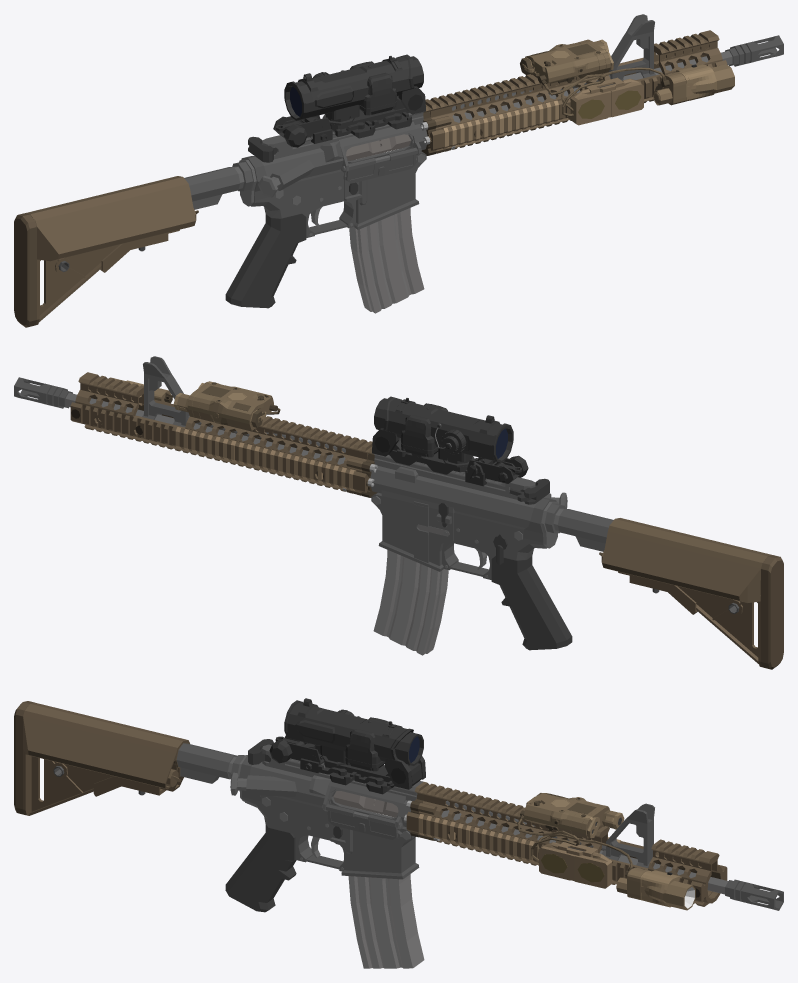
Rendered from low-poly_m4a1_sopmod_block_ii.glb.
3 views of the same model, one above another, from view 1: azimuth 30°, elevation 25°; view 2: azimuth 150°, elevation 25°; view 3: azimuth 330°, elevation 25° (orthographic).
Parts seen in each view (by area): view 1: LMT-SOPMOF_73, Upper+Lower-receiver_86, Upper-handguard_87, Magazine_75, Pistol-Grip_80, Cylinder.007_41, Cylinder.025_47, Barrel + Muzzle_5, Front-sight_71, Cube.010_15, Cube_11, Cube.006_13 (+5 smaller); view 2: Upper+Lower-receiver_86, LMT-SOPMOF_73, Upper-handguard_87, Magazine_75, Pistol-Grip_80, Cylinder.007_41, Cylinder.025_47, Cube.011_16, Barrel + Muzzle_5, Front-sight_71, Cube.022_27, Lower-handguard_74 (+3 smaller); view 3: Upper+Lower-receiver_86, LMT-SOPMOF_73, Upper-handguard_87, Magazine_75, Pistol-Grip_80, Cylinder.007_41, Cylinder.025_47, Barrel + Muzzle_5, Front-sight_71, Cube.010_15, Cube.006_13, Cube_11 (+8 smaller).
Part boxes in pixels (<box>): LMT-SOPMOF_73: <box>14,176,198,327</box>; Upper+Lower-receiver_86: <box>184,111,427,237</box>; Upper-handguard_87: <box>423,30,727,150</box>; Magazine_75: <box>349,148,424,313</box>; Pistol-Grip_80: <box>225,213,306,308</box>; Cylinder.007_41: <box>284,54,417,120</box>; Cylinder.025_47: <box>525,39,611,83</box>; Barrel + Muzzle_5: <box>452,35,783,122</box>; Front-sight_71: <box>608,14,655,80</box>; Cube.010_15: <box>441,100,558,148</box>; Cube_11: <box>664,64,716,105</box>; Cube.006_13: <box>568,78,643,125</box>; Upper+Lower-receiver_86: <box>370,453,613,579</box>; LMT-SOPMOF_73: <box>599,518,783,669</box>; Upper-handguard_87: <box>70,372,374,492</box>; Magazine_75: <box>373,524,448,655</box>; Pistol-Grip_80: <box>491,556,572,650</box>; Cylinder.007_41: <box>380,396,513,462</box>; Cylinder.025_47: <box>177,381,273,430</box>; Cube.011_16: <box>175,427,356,490</box>; Barrel + Muzzle_5: <box>14,377,345,464</box>; Front-sight_71: <box>142,356,197,427</box>; Cube.022_27: <box>401,403,447,456</box>; Lower-handguard_74: <box>84,424,361,495</box>; Upper+Lower-receiver_86: <box>176,743,423,879</box>; LMT-SOPMOF_73: <box>14,701,189,815</box>; Upper-handguard_87: <box>406,782,727,903</box>; Magazine_75: <box>348,808,424,968</box>; Pistol-Grip_80: <box>225,824,296,912</box>; Cylinder.007_41: <box>284,700,413,765</box>; Cylinder.025_47: <box>524,793,618,838</box>; Barrel + Muzzle_5: <box>441,810,783,910</box>; Front-sight_71: <box>602,803,655,867</box>; Cube.010_15: <box>418,814,535,862</box>; Cube.006_13: <box>539,842,614,888</box>; Cube_11: <box>627,867,681,907</box>.
Size of the model in its own units: 8.85 by 2.79 by 0.8541.
